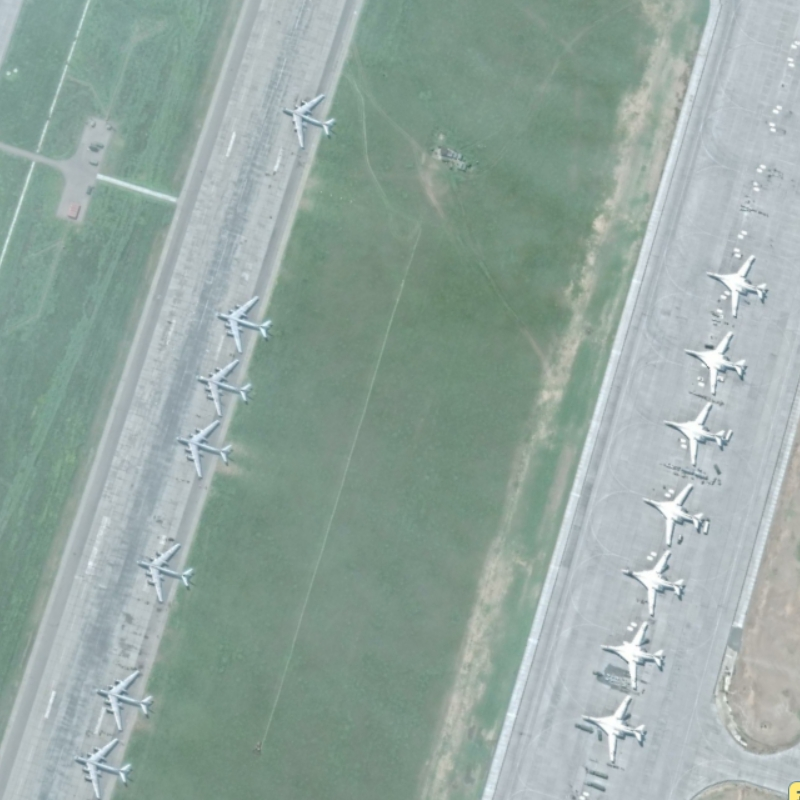A17: (92, 665, 157, 735), (191, 355, 258, 420), (68, 737, 137, 800), (134, 541, 197, 606), (212, 293, 276, 355), (171, 420, 237, 479), (279, 92, 340, 151)
A6: (598, 620, 667, 693), (579, 694, 649, 765), (661, 401, 734, 468), (618, 548, 688, 617), (702, 253, 770, 320), (680, 329, 747, 397), (640, 482, 708, 548)
